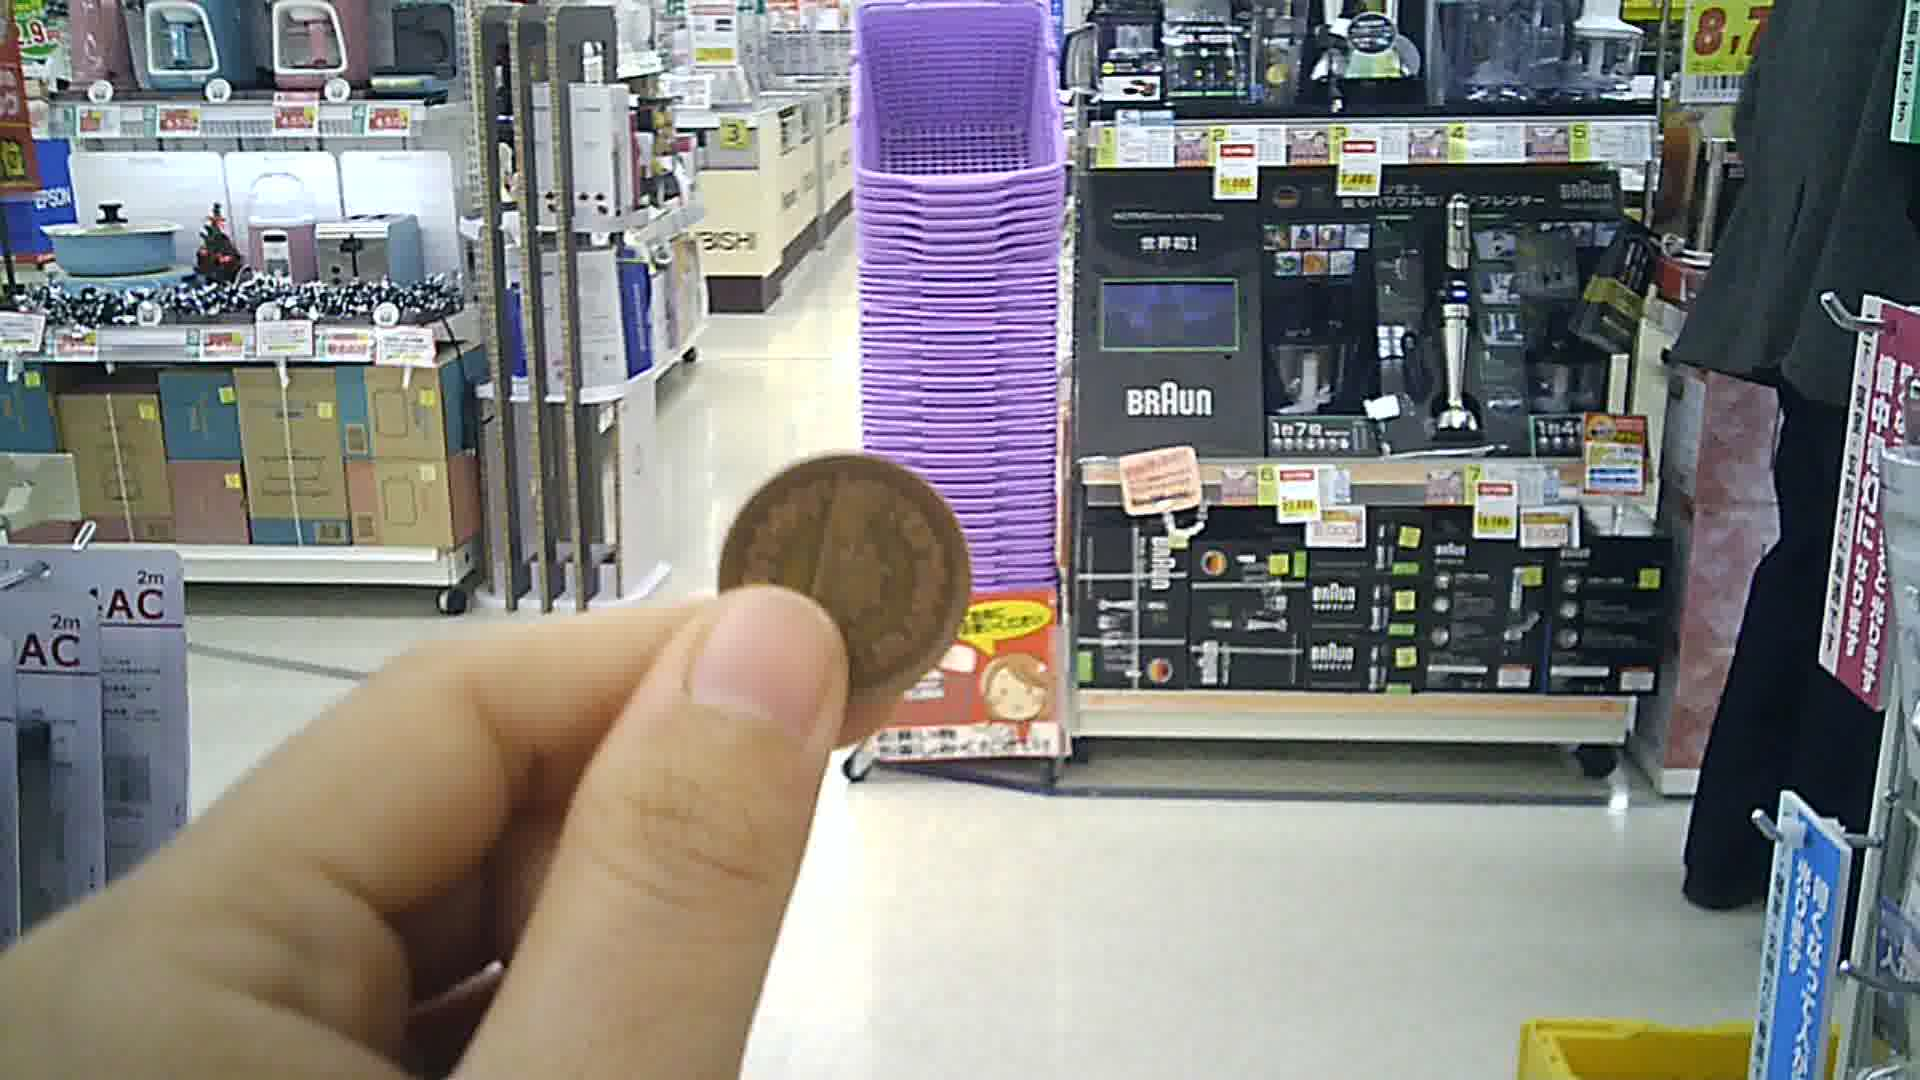10 Yen: (715, 451, 964, 702)
